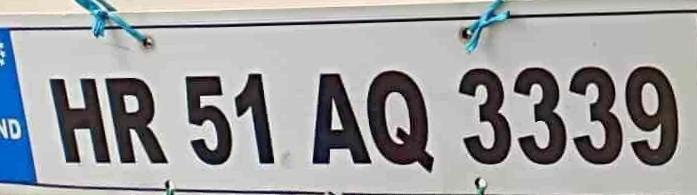1: (229, 70, 285, 177)
3: (564, 59, 629, 175), (507, 60, 573, 173), (452, 63, 521, 170)
5: (176, 72, 241, 171)
9: (617, 60, 687, 171)
A: (308, 65, 376, 172)
H: (42, 72, 117, 171)
Q: (359, 65, 444, 173)
R: (101, 72, 177, 170)
